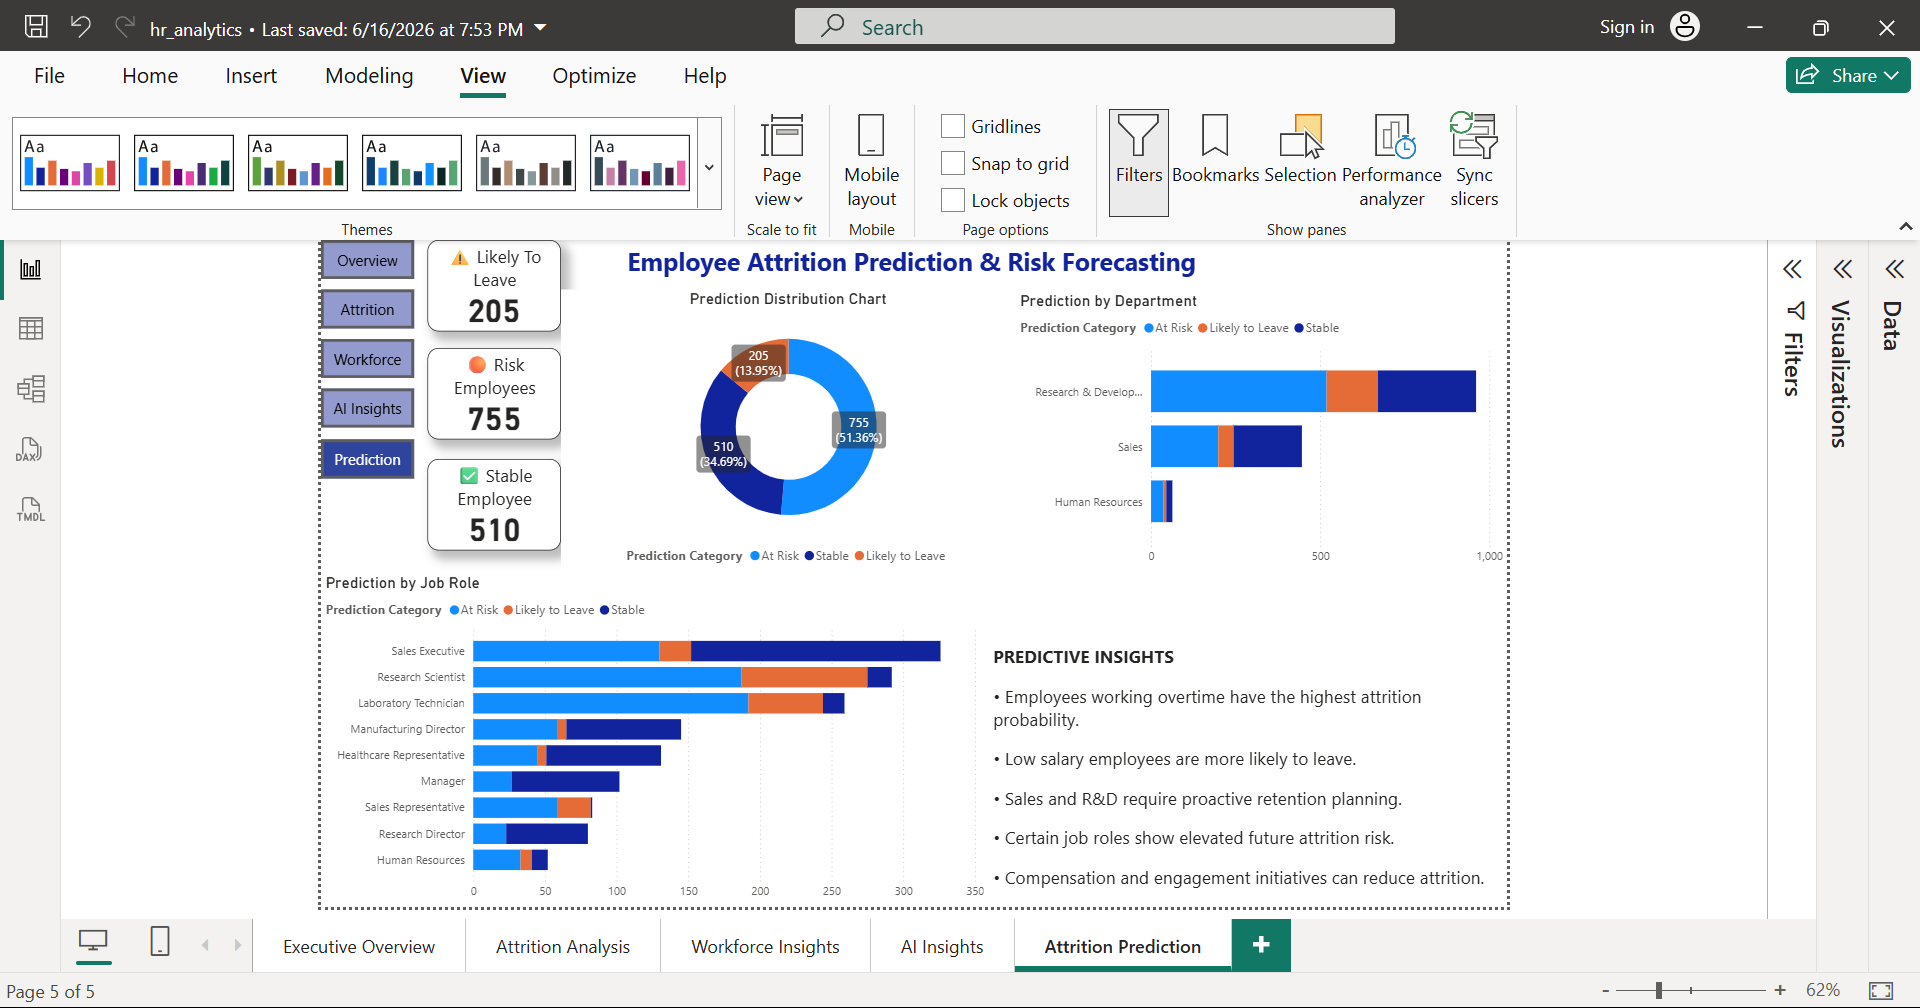

Layout of this report page (visuals, bound fields, positions):
{"tool":"powerbi","page":{"name":"Attrition Prediction","canvas":[1280,720],"ordinal":4},"visuals":[{"type":"textbox","box":[325.5,0,628.3,55.1],"z":0},{"type":"card","title":"⚠️ Likely To Leave","fields":{"Values":["public hr_attrition.Likely To Leave Employees"]},"box":[115,0,144.1,98.8],"z":1000},{"type":"card","title":"🟠 Risk Employees","fields":{"Values":["public hr_attrition.At Risk Employees"]},"box":[115,116.6,144.1,98.8],"z":2000},{"type":"card","title":"✅ Stable Employee","fields":{"Values":["public hr_attrition.Stable Employees"]},"box":[115,236.4,144.1,98.8],"z":3000},{"type":"donutChart","title":"Prediction Distribution Chart","fields":{"Category":["public hr_attrition.Prediction Category"],"Y":["CountNonNull(public hr_attrition.employeenumber)"]},"box":[259.1,53.4,490.6,306],"z":4000},{"type":"barChart","title":"Prediction by Department","fields":{"Category":["public hr_attrition.department"],"Y":["CountNonNull(public hr_attrition.employeenumber)"],"Series":["public hr_attrition.Prediction Category"]},"box":[749.7,55.1,531.1,304.4],"z":5000},{"type":"barChart","title":"Prediction by Job Role","fields":{"Category":["public hr_attrition.jobrole"],"Y":["CountNonNull(public hr_attrition.employeenumber)"],"Series":["public hr_attrition.Prediction Category"]},"box":[0,359.5,720.6,361.1],"z":6000},{"type":"textbox","box":[720.6,359.5,560.3,361.1],"z":7000},{"type":"actionButton","box":[0,0,100.4,42.1],"z":8000},{"type":"actionButton","box":[0,53.4,100.4,42.1],"z":9000},{"type":"actionButton","box":[0,106.9,100.4,42.1],"z":10000},{"type":"actionButton","box":[0,160.3,100.4,42.1],"z":11000},{"type":"actionButton","box":[0,215.4,100.4,42.1],"z":12000}]}

Visuals, with their boxes on the page's 1280x720 design canvas (x1, y1, x2, y2). These are canvas units, not pixel positions in the 1920x1008 screenshot, which may show the page scaled, cropped or inside an application window:
textbox: detection(326, 0, 954, 55)
"⚠️ Likely To Leave" card: detection(115, 0, 259, 99)
"🟠 Risk Employees" card: detection(115, 117, 259, 215)
"✅ Stable Employee" card: detection(115, 236, 259, 335)
"Prediction Distribution Chart" donutChart: detection(259, 53, 750, 359)
"Prediction by Department" barChart: detection(750, 55, 1281, 360)
"Prediction by Job Role" barChart: detection(0, 360, 721, 721)
textbox: detection(721, 360, 1281, 721)
actionButton: detection(0, 0, 100, 42)
actionButton: detection(0, 53, 100, 96)
actionButton: detection(0, 107, 100, 149)
actionButton: detection(0, 160, 100, 202)
actionButton: detection(0, 215, 100, 258)
